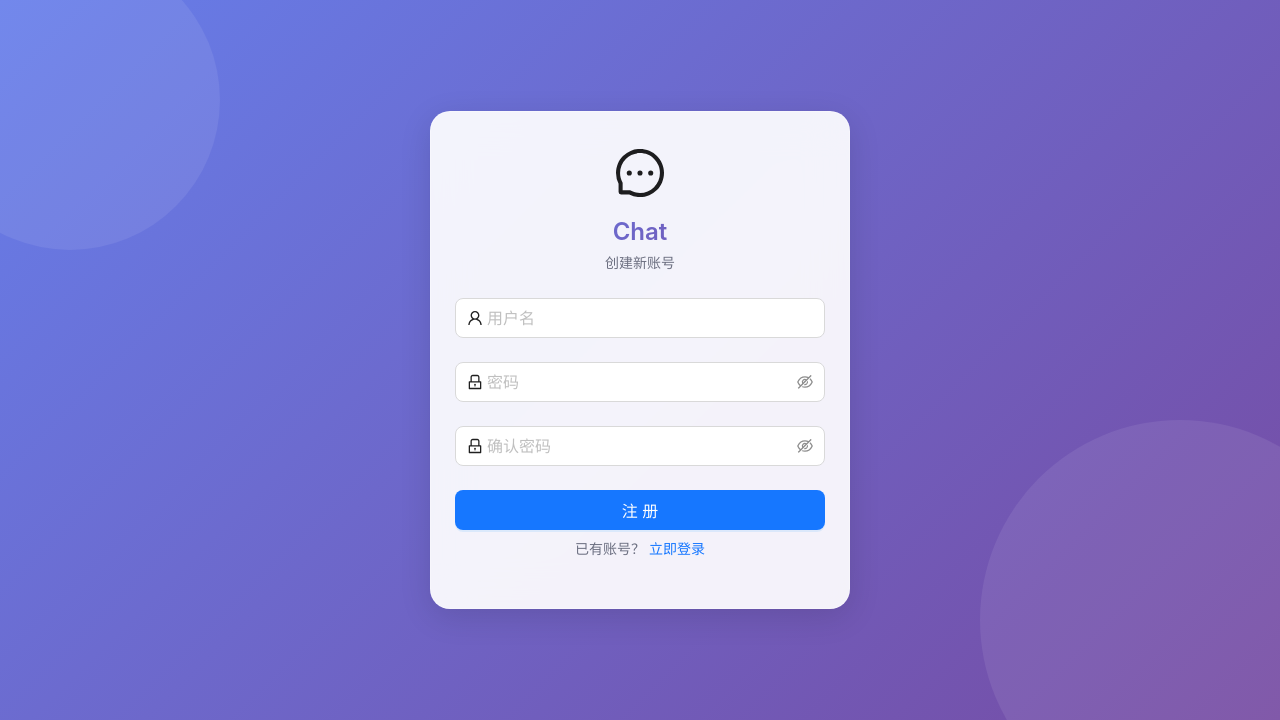
Scenario: Register - Validation & Error (v0.2.0) › 1.2.3: shows validation error when password is empty
In the field with placeholder "用户名": (650, 318) [487,306,813,330], type "testuser"
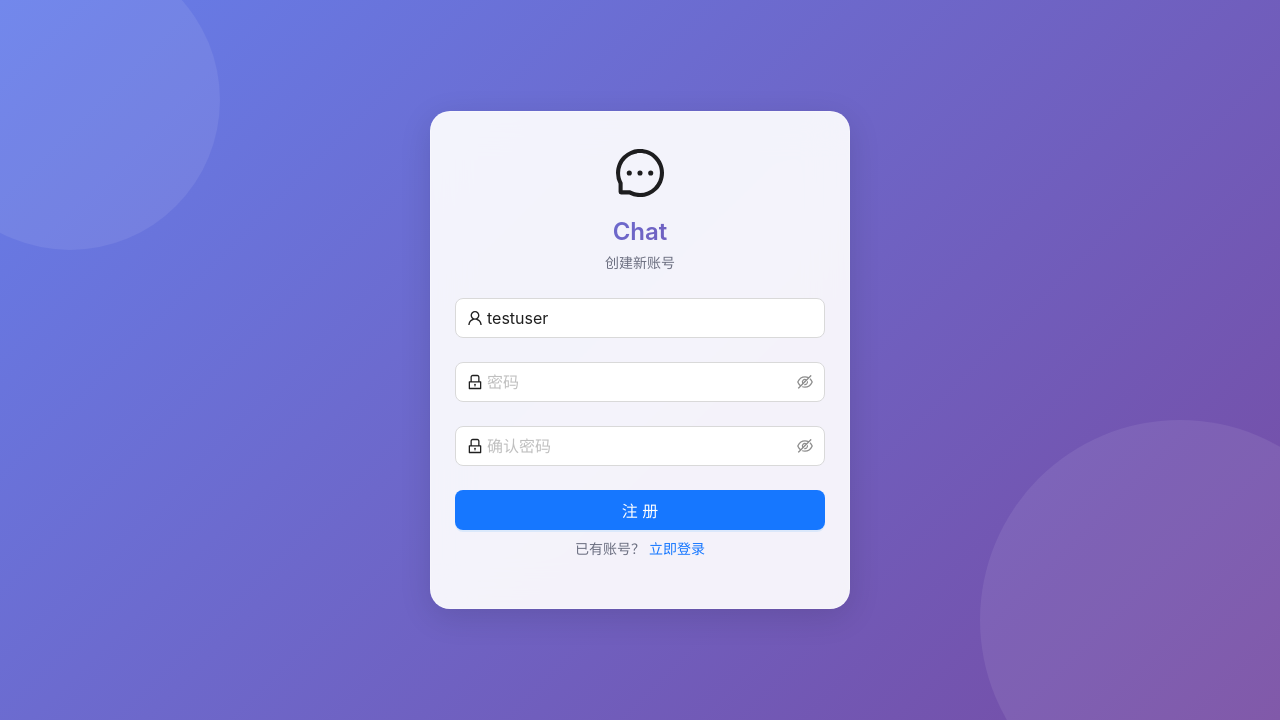
Click the button "注 册": (640, 510) [455,490,825,530]
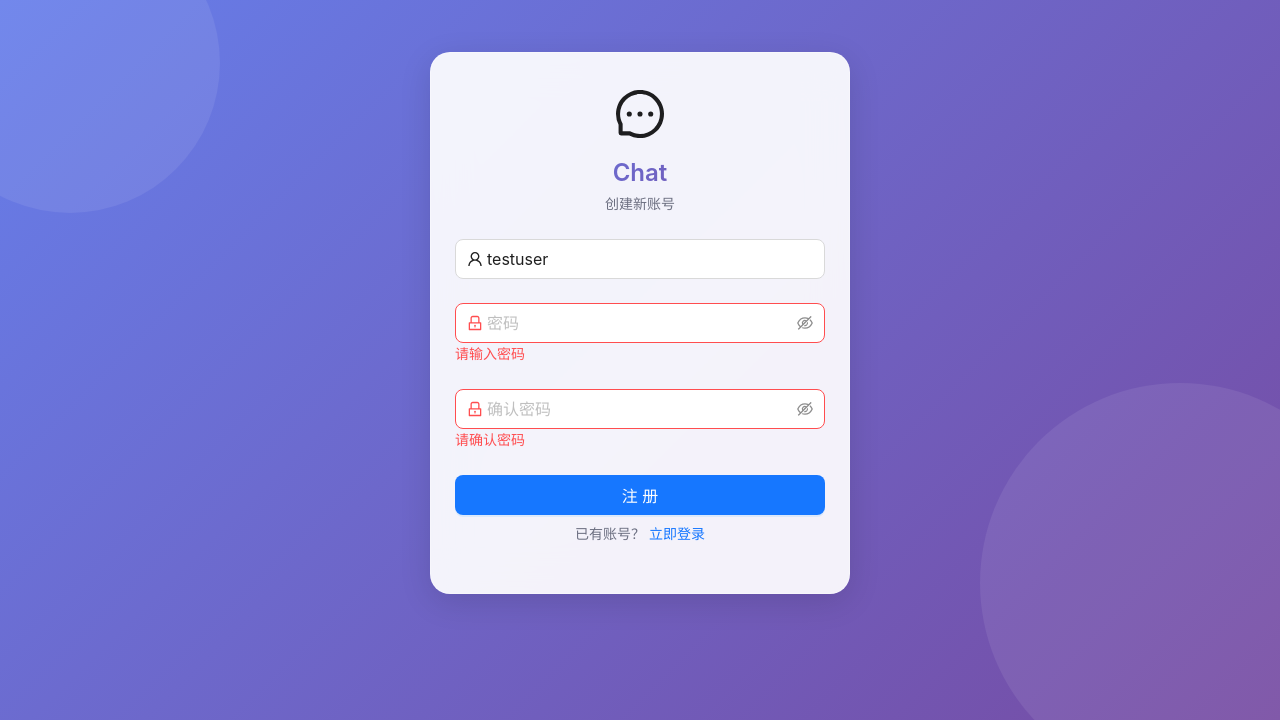
Now the text "请输入密码" is shown, box [455,345,525,362]
